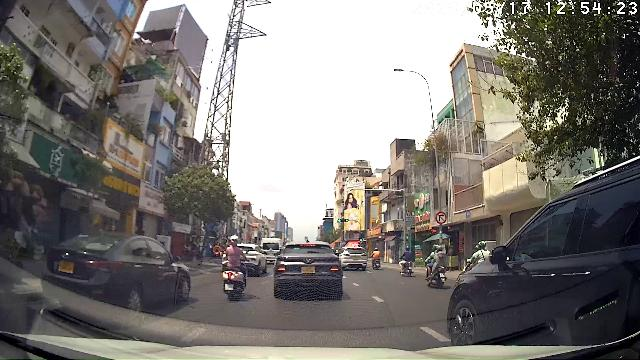123b-cam-re-phai: (435, 211, 447, 224)
